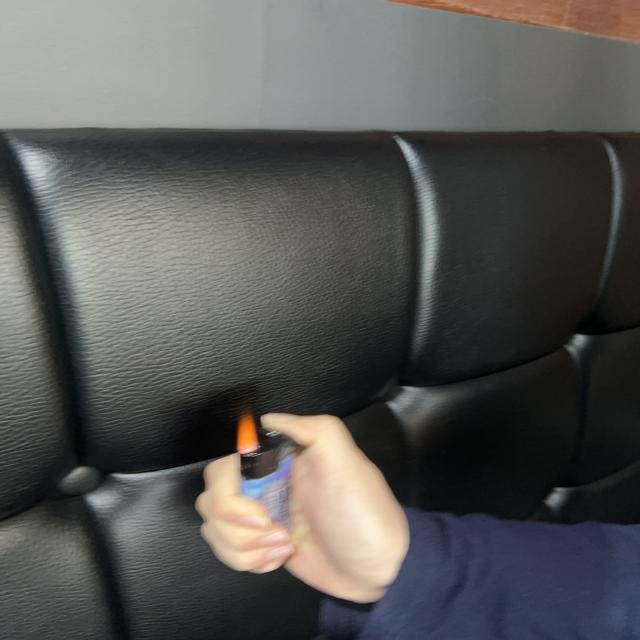fire: (237, 410, 259, 454)
